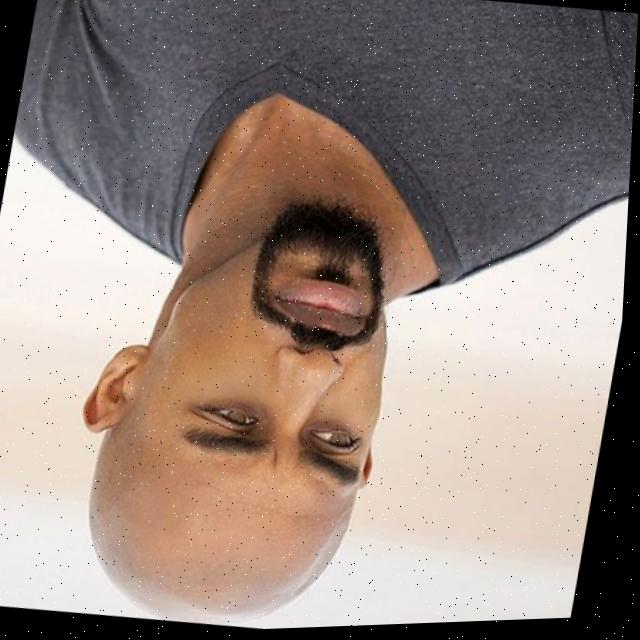beard: (256, 202, 390, 353)
